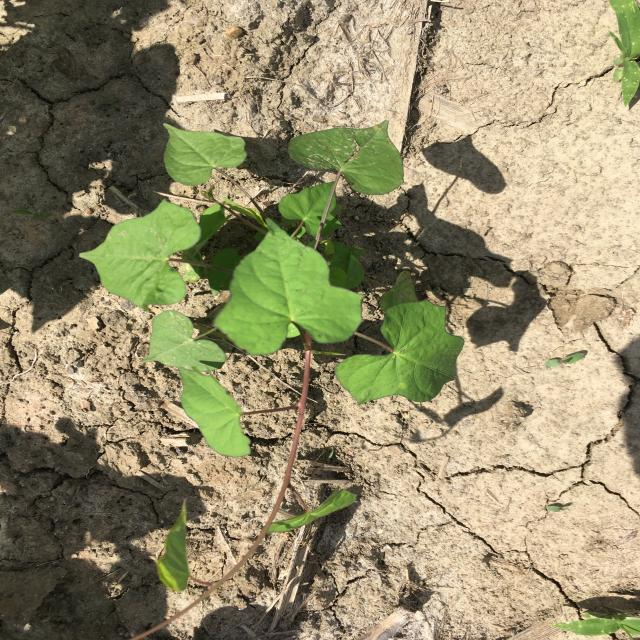MorningGlory: (78, 118, 466, 640)
